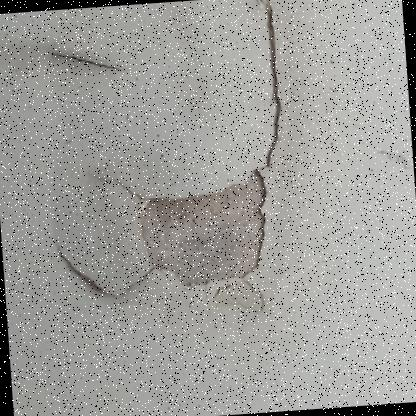Crack: (26, 134, 314, 351), (192, 0, 313, 181), (32, 16, 133, 102)
